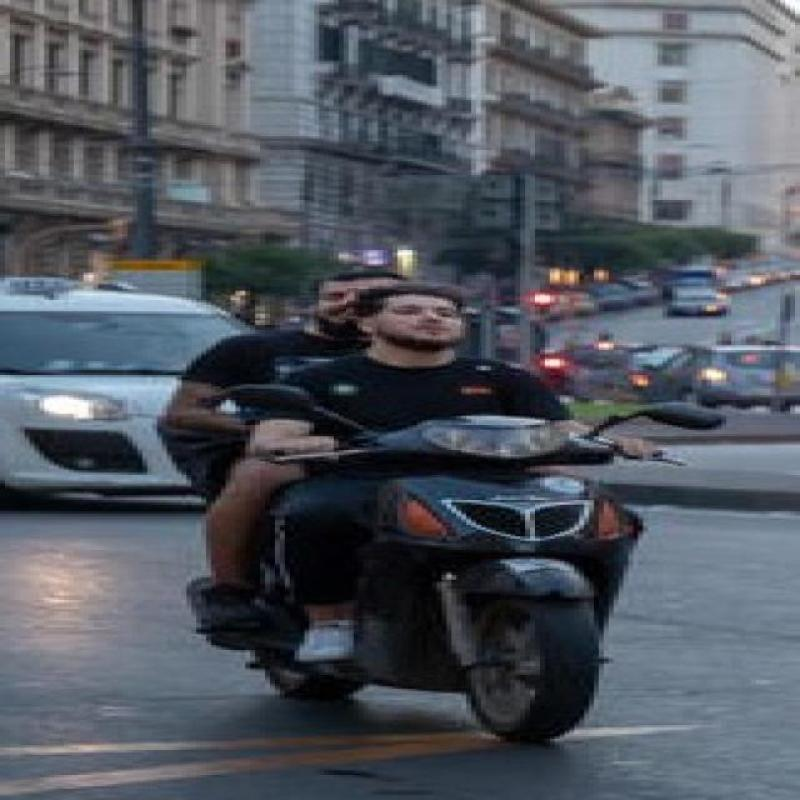nohelmet: (345, 290, 482, 358)
